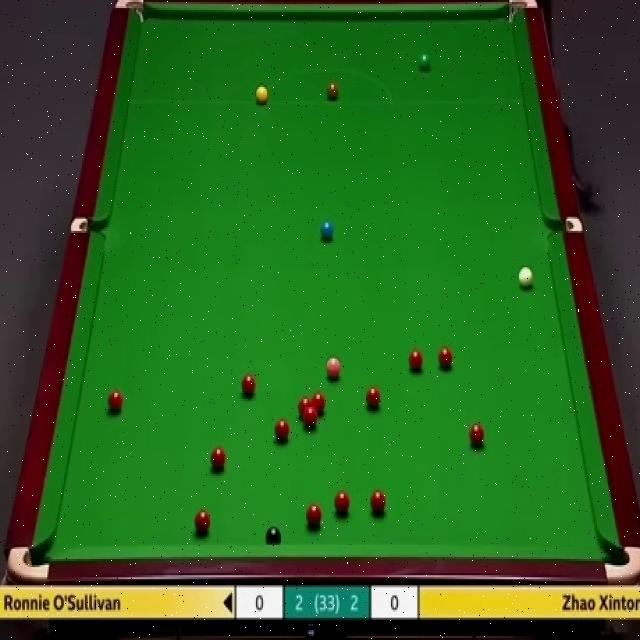black-ball: (265, 528, 281, 544)
blue-ball: (319, 220, 333, 242)
brown-ball: (326, 82, 339, 102)
green-ball: (420, 50, 430, 70)
pink-ball: (324, 351, 340, 376)
red-ball: (273, 417, 291, 444), (209, 446, 228, 471), (334, 491, 351, 518), (194, 508, 211, 534), (305, 503, 322, 528), (303, 405, 318, 433), (469, 422, 485, 448), (241, 373, 257, 398), (310, 391, 326, 415), (370, 491, 387, 513), (106, 391, 123, 413), (438, 345, 452, 371), (366, 385, 381, 409), (299, 396, 313, 421), (409, 350, 424, 371)
white-ball: (516, 264, 535, 288)
yellow-ball: (253, 86, 269, 106)
